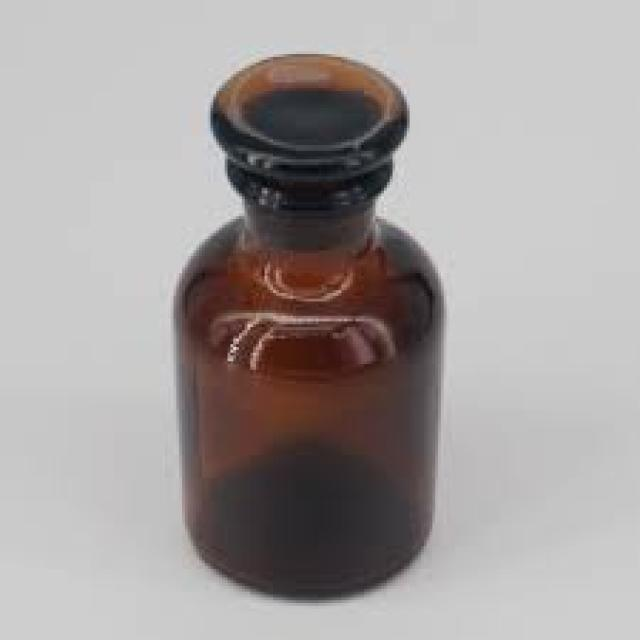glass: (176, 54, 441, 594)
